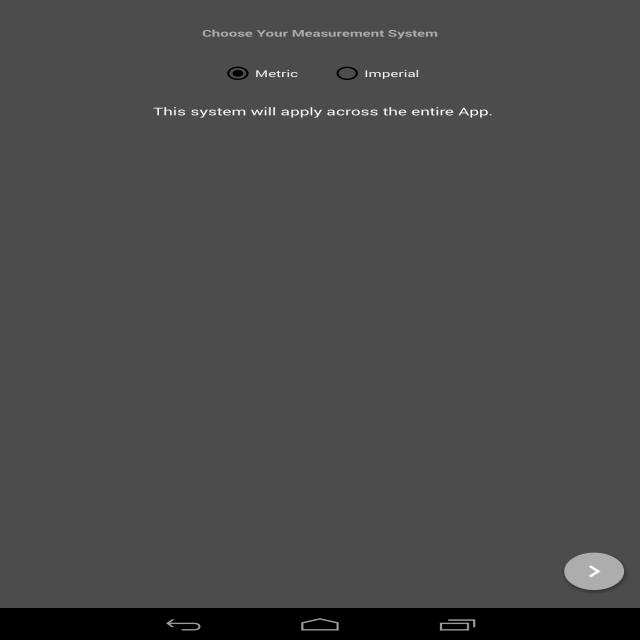Button: (520, 247, 606, 301), (241, 247, 326, 301), (115, 475, 158, 502), (24, 280, 66, 307), (141, 280, 183, 307), (24, 475, 66, 502), (569, 457, 611, 483), (72, 452, 109, 475)
EditText: (210, 457, 553, 478)
ImageButton: (559, 548, 629, 595), (586, 0, 640, 36), (586, 53, 640, 89), (0, 0, 53, 36), (0, 53, 53, 89), (0, 106, 53, 142)
ImageView: (601, 10, 626, 26), (18, 12, 35, 24)
ProgressBar: (23, 554, 221, 560), (220, 554, 418, 560), (418, 554, 616, 560)
RadioButton: (330, 63, 419, 84), (221, 63, 298, 84)
TextView: (5, 104, 640, 118), (202, 27, 438, 39), (23, 538, 221, 550), (220, 538, 418, 550), (418, 538, 616, 550), (23, 567, 221, 578), (220, 567, 418, 578), (418, 567, 616, 578), (34, 376, 84, 398), (295, 376, 345, 398), (520, 301, 606, 313), (241, 301, 326, 313), (241, 236, 324, 248), (34, 363, 104, 376), (34, 398, 104, 411), (545, 363, 606, 376), (545, 398, 606, 411), (540, 236, 606, 248), (558, 188, 635, 198), (546, 376, 581, 398), (85, 240, 121, 261), (305, 363, 334, 376), (584, 385, 606, 398), (91, 262, 116, 272), (88, 385, 104, 398)
